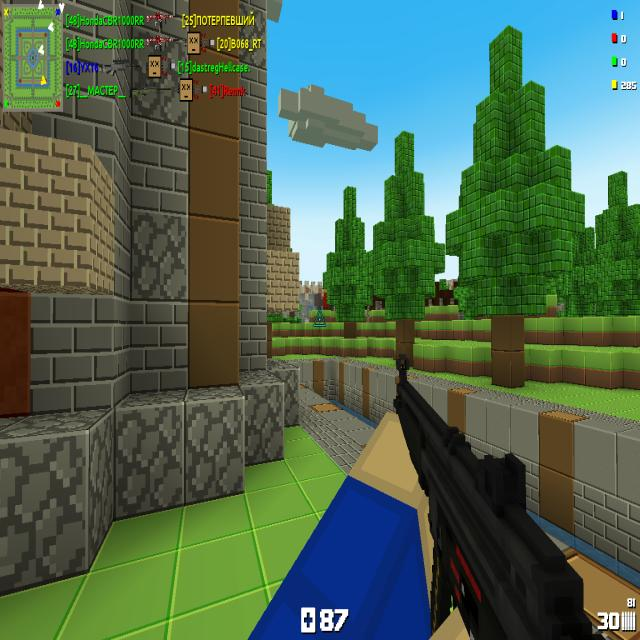enemy: (322, 289, 328, 309)
